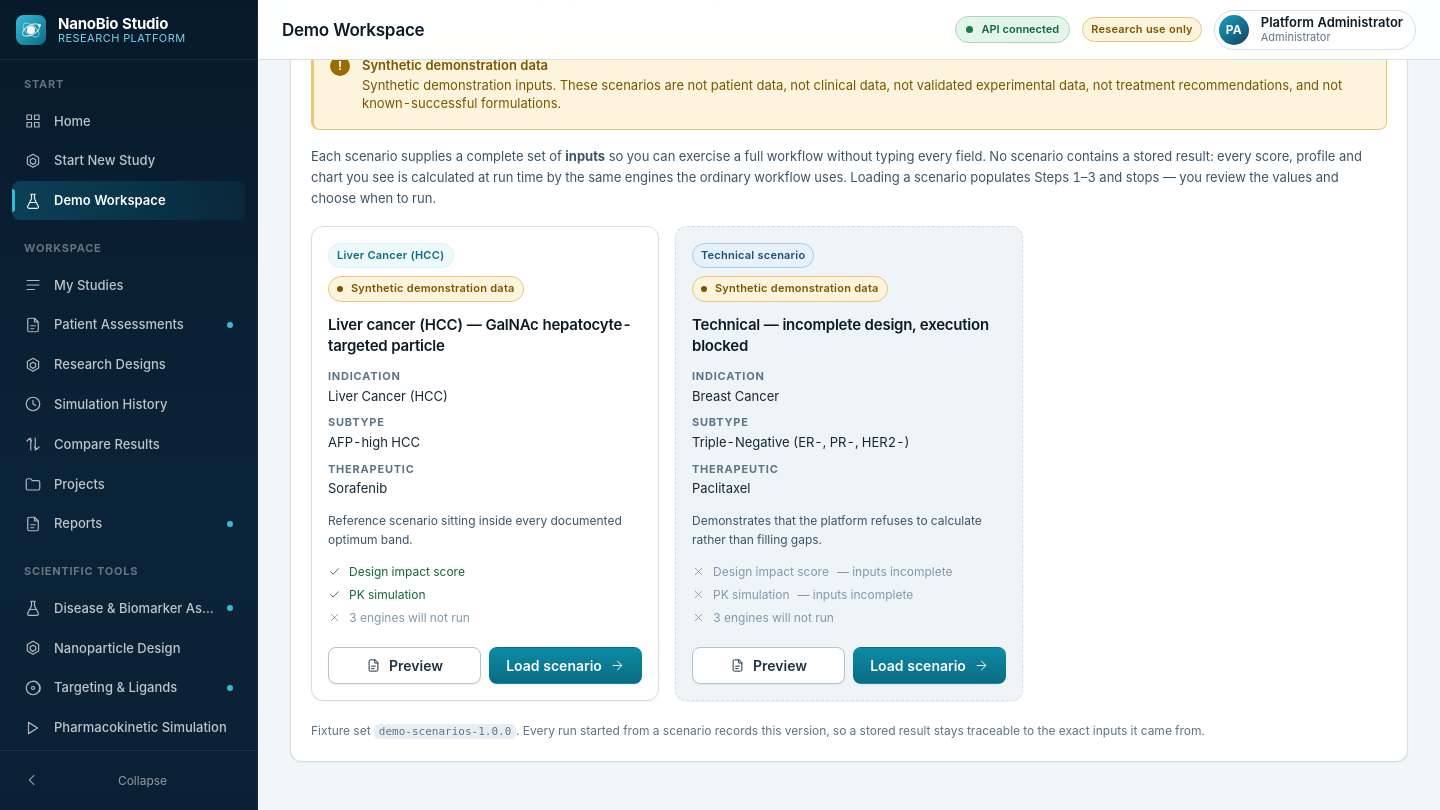
Test: scenario preview › shows every input before loading
The width and height of the screenshot is (1440, 810).
(page scrolled)
Expected: the element with test id "scenario-cards" is shown, [311,226,1023,701]
Click the button "Preview" below "Sorafenib" at (404, 666), box [328,647,481,684]
(page scrolled)
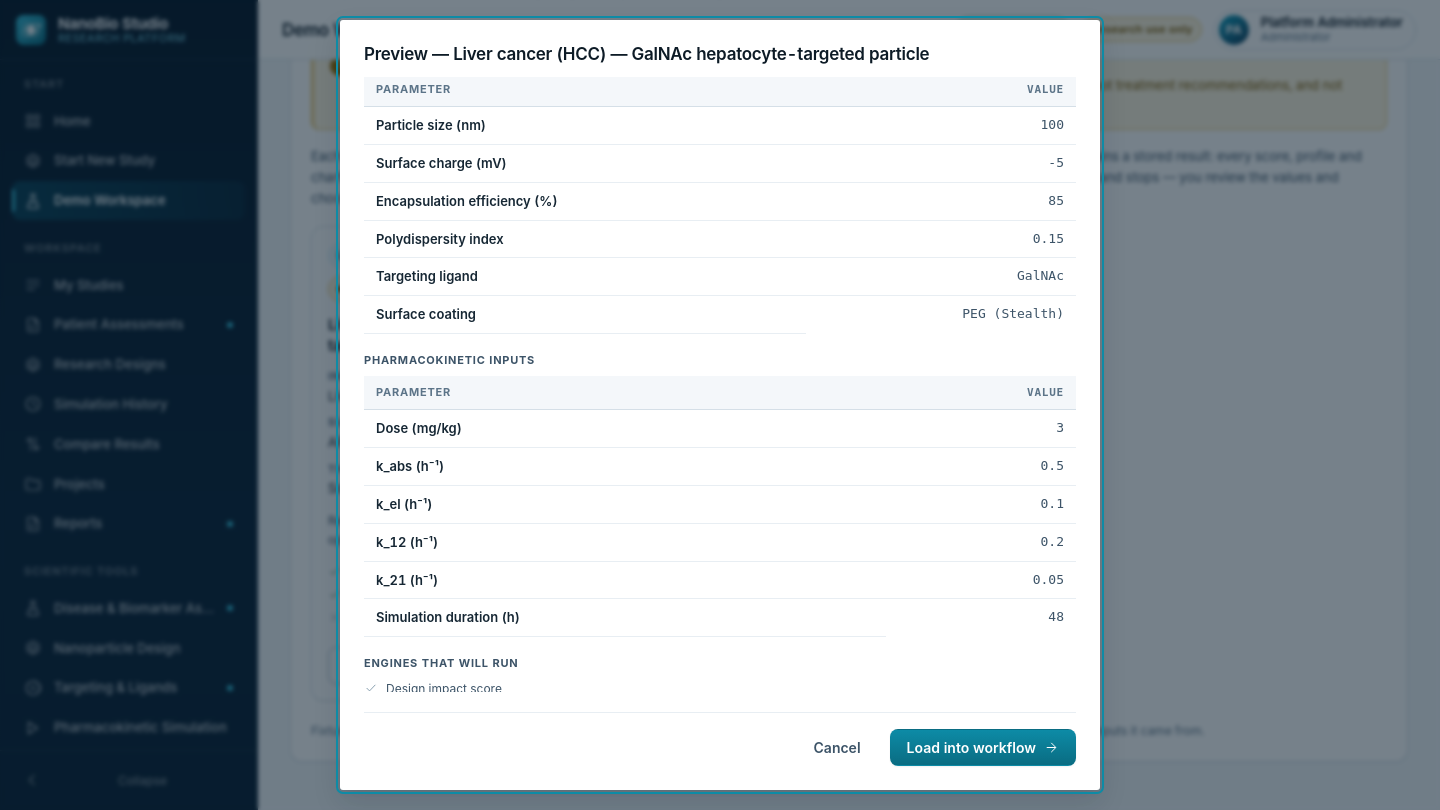
Result: the element with test id "scenario-preview" shows "Particle size (nm)" at [376,117,486,133]
Result: the element with test id "scenario-preview" shows "k_abs" at [376,458,444,474]
Result: the element with test id "scenario-preview" shows "GalNAc" at [1017,268,1064,283]
